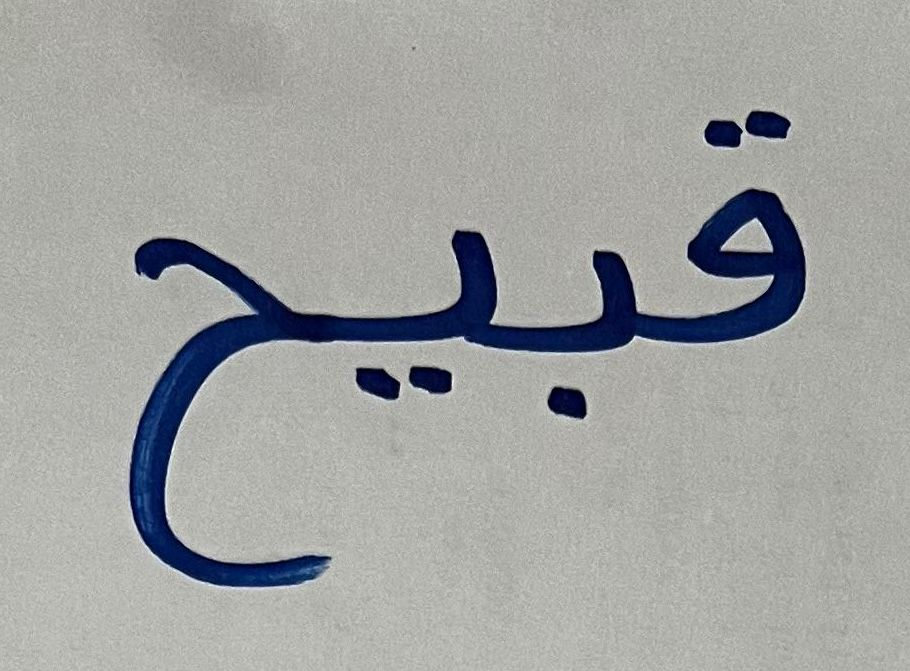beh: (509, 187, 651, 498)
hah: (63, 143, 317, 597)
qaf: (670, 94, 835, 407)
yeh: (324, 183, 506, 455)
